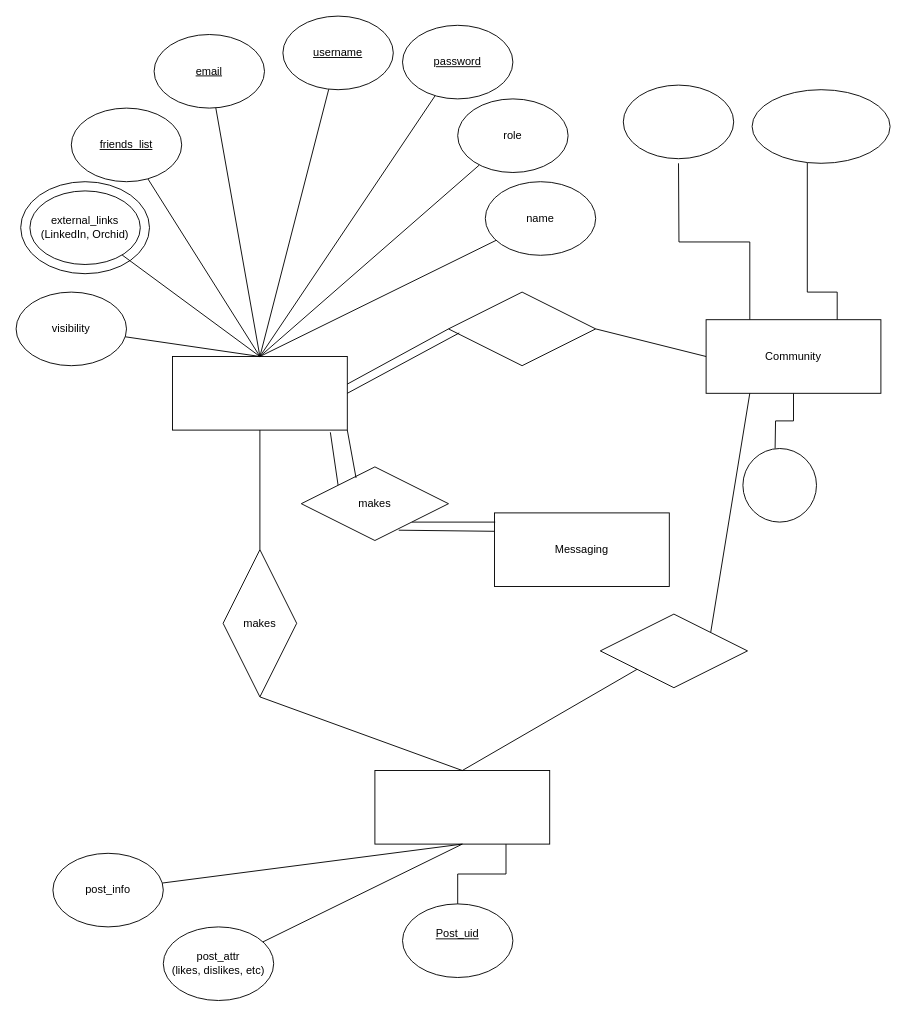
This 906x1017 diagram has some shape labels left out. Here are the shapes that lost their labels. From the top down, the centre of each, then its label:
At [678,121]: "community_uid".
At [820,126]: "visibility (public, private".
At [522,328]: "member of".
At [259,393]: "User".
At [779,485]: "Number of Users".
At [673,650]: "has".
At [462,807]: "Post".
